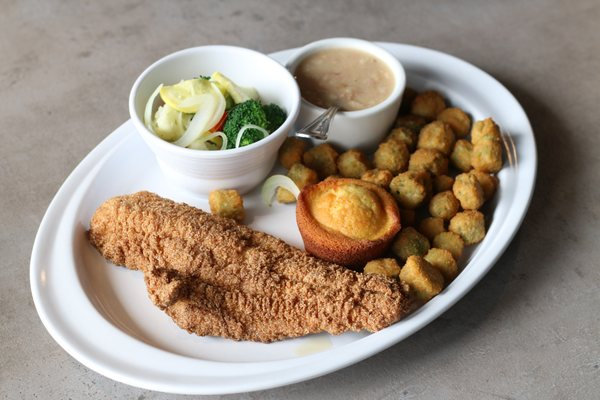curry: (222, 98, 284, 149)
sushi: (128, 44, 302, 196), (278, 38, 406, 151)
